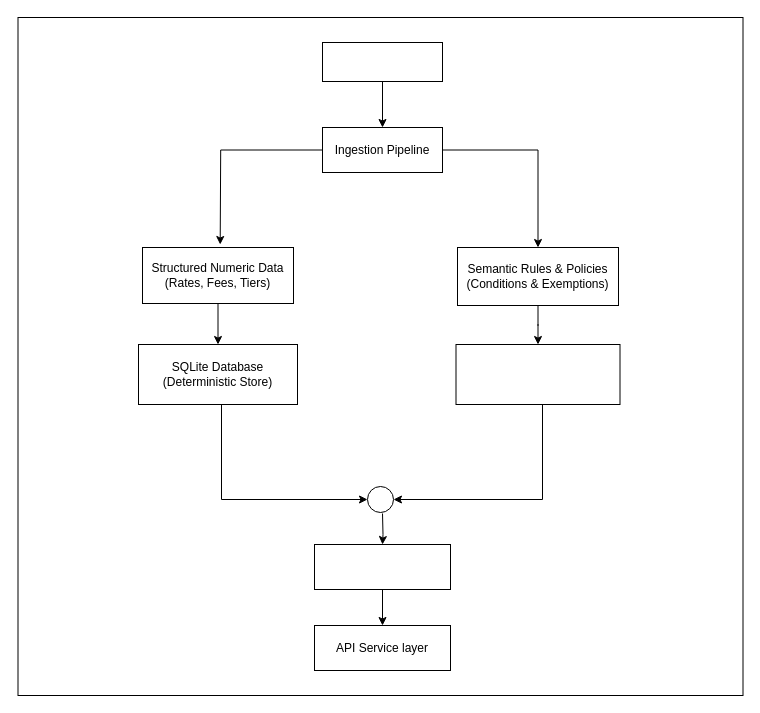
This 760x713 diagram has some shape labels left out. Each missing label, with the centre of its shape:
"Calculation Engine" belongs at point 382,567.
"Chroma DB (Vector SStore)" belongs at point 537,374.
"Port Tariff PDF" belongs at point 382,62.
